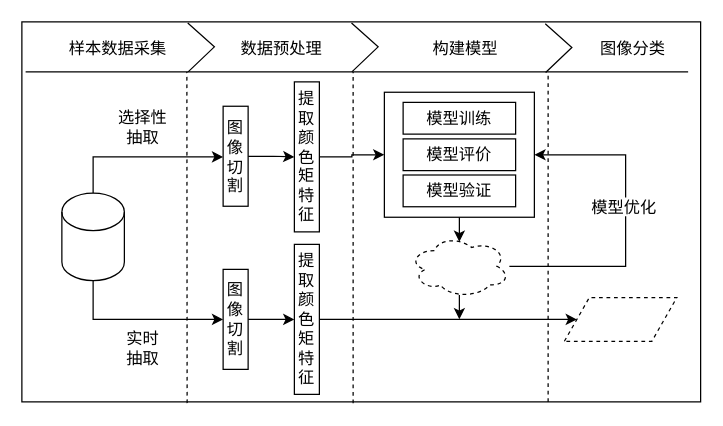
This 723x426 diagram has some shape labels left out. Here are the shapes that lost their labels. From the top down, the box of each, then its label:
(61, 192, 124, 281): 图像 样本
(408, 234, 509, 298): 模型
(563, 296, 677, 341): 图像分 类结果
